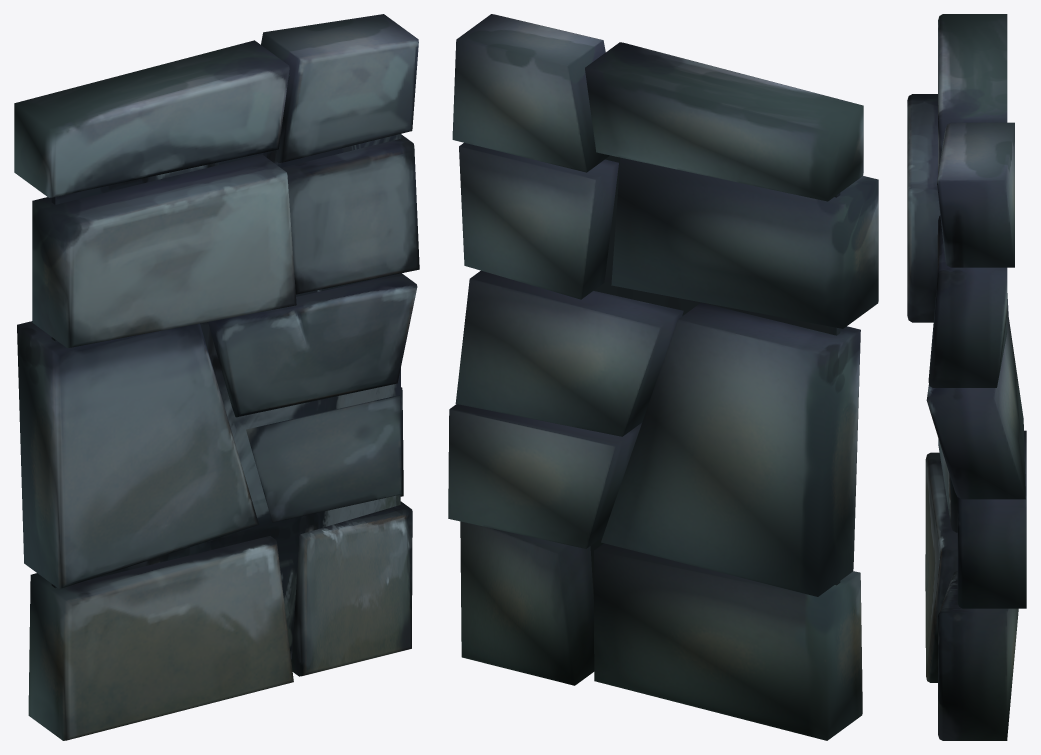
The model's file is stone_wall_half.fbx.
3 views of the same model, side by side, from view 1: azimuth 30°, elevation 25°; view 2: azimuth 150°, elevation 25°; view 3: azimuth 270°, elevation 25° (orthographic). The views are drawn at different scales.
Parts seen in each view (by area): view 1: Cube.006; view 2: Cube.006; view 3: Cube.006.
Part boxes in pixels (<box>): Cube.006: <box>14,14,419,740</box>; Cube.006: <box>448,14,878,740</box>; Cube.006: <box>907,14,1026,740</box>.
Bounding box in the file's own units: 2.36 × 3.76 × 0.7156.
1 material, 1 textured.
